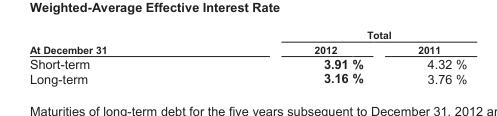table: (28, 28, 466, 85)
table column: (28, 28, 209, 85), (209, 28, 389, 85), (389, 28, 466, 85)
table column header: (28, 28, 466, 55)
table row: (28, 55, 466, 70), (28, 70, 466, 85), (28, 41, 466, 55), (28, 28, 466, 41)
table spanning cell: (28, 28, 209, 55), (209, 28, 466, 41)
